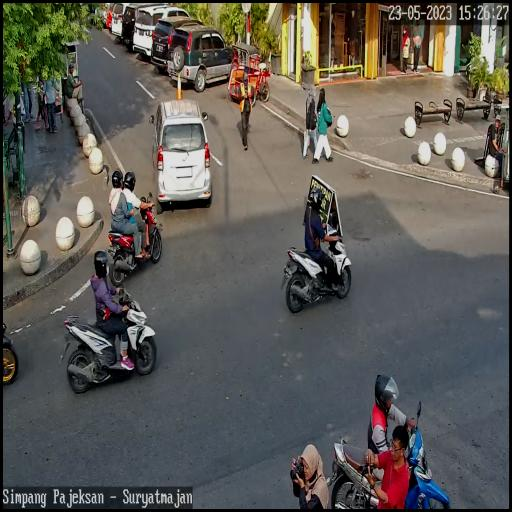mobil: (147, 92, 215, 212), (171, 25, 239, 89), (135, 6, 196, 63), (154, 16, 206, 78)
motor: (59, 287, 162, 388), (285, 212, 349, 313), (104, 188, 163, 282)
